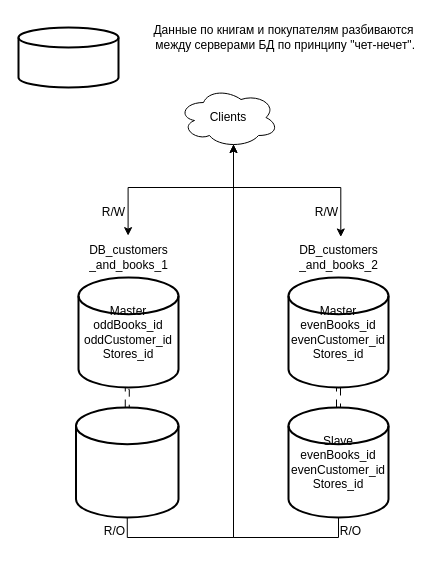
Some shapes in this 445 by 563 pixel diagram are drawn without their labels. The centre of each missing label's shape, as x and y in pixels:
Customer Books Stores: the point at 68,57
Slave oddBooks_id oddCustomer_id Stores_id: the point at 126,462
